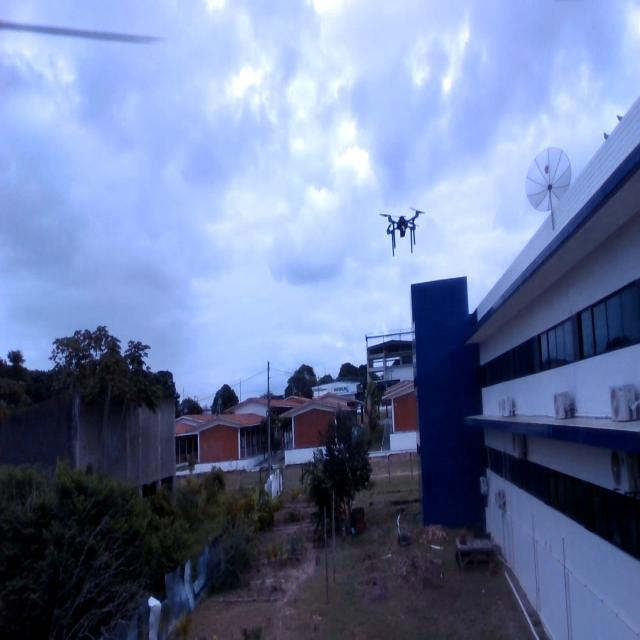-uav-: (370, 197, 439, 265)
